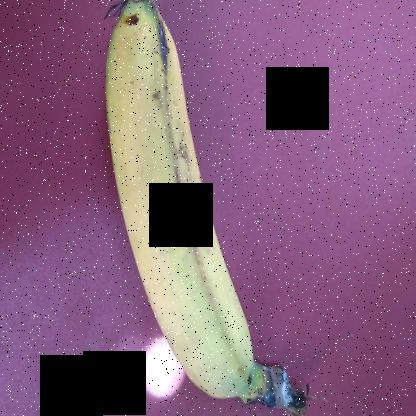ripe: (78, 1, 278, 409)
